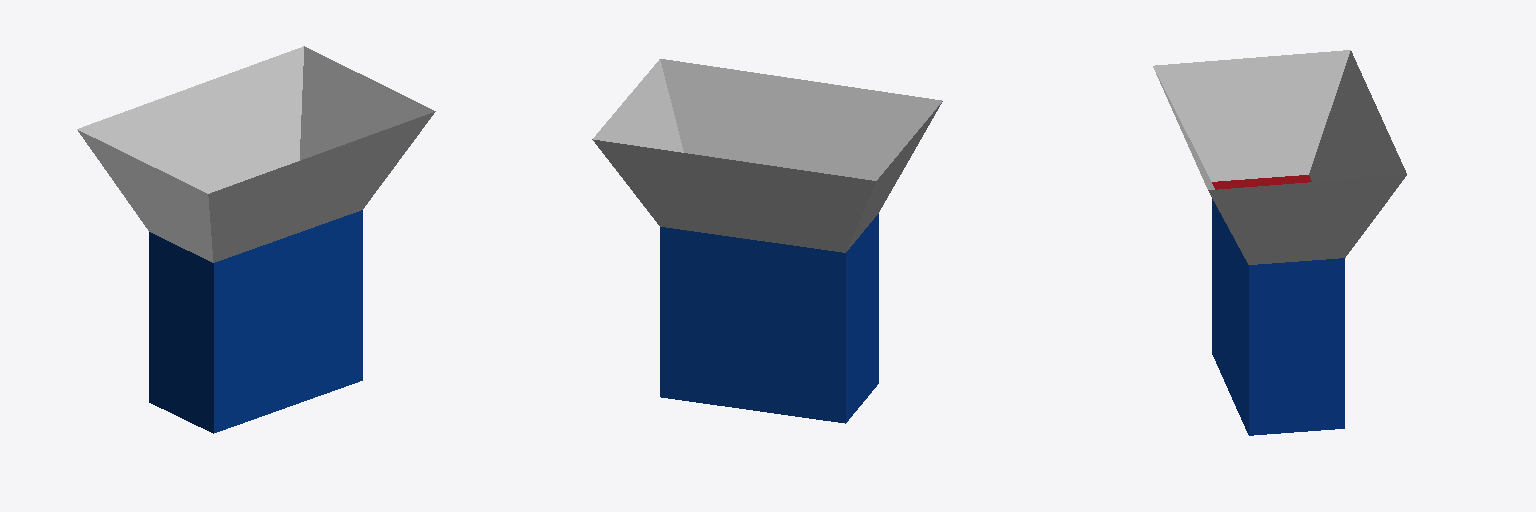
File: viscliff.obj
3 views of the same model, side by side, from view 1: azimuth 30°, elevation 25°; view 2: azimuth 150°, elevation 25°; view 3: azimuth 270°, elevation 25° (orthographic).
Visible parts, largest first — view 1: Arena, CliffWalls; view 2: Arena, CliffWalls; view 3: Arena, CliffWalls, Safe2.
Boxes of the visible parts, x1,y1,x2,y2 form: Arena: [77, 46, 435, 262]; CliffWalls: [149, 210, 362, 433]; Arena: [592, 59, 942, 252]; CliffWalls: [660, 214, 878, 423]; Arena: [1153, 50, 1406, 264]; CliffWalls: [1212, 199, 1344, 435]; Safe2: [1212, 175, 1311, 189].
Bounding box in the file's own units: 1.69 × 1.52 × 1.29.